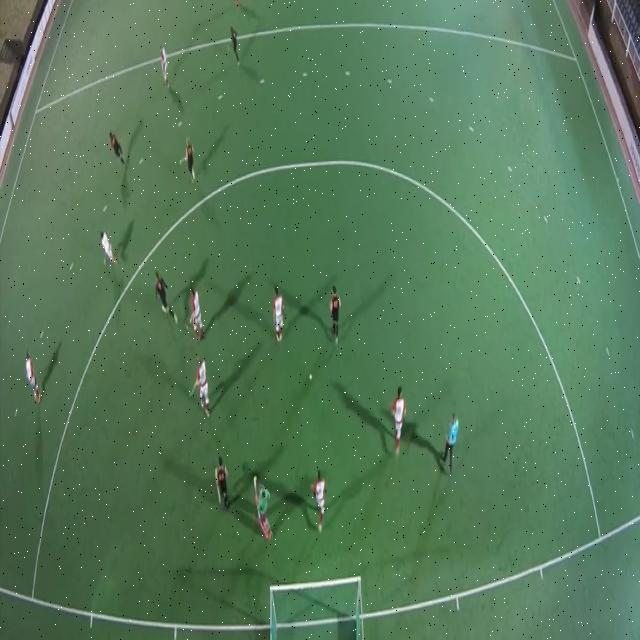humans: (148, 257, 177, 332), (187, 352, 214, 422), (22, 340, 45, 415), (184, 280, 208, 348), (390, 378, 410, 459), (269, 274, 289, 351), (252, 467, 270, 552), (440, 408, 460, 481), (175, 125, 199, 185), (326, 279, 345, 350), (308, 467, 326, 541), (106, 123, 130, 176), (100, 218, 120, 280), (212, 449, 228, 523), (155, 33, 172, 96), (225, 20, 242, 78)
